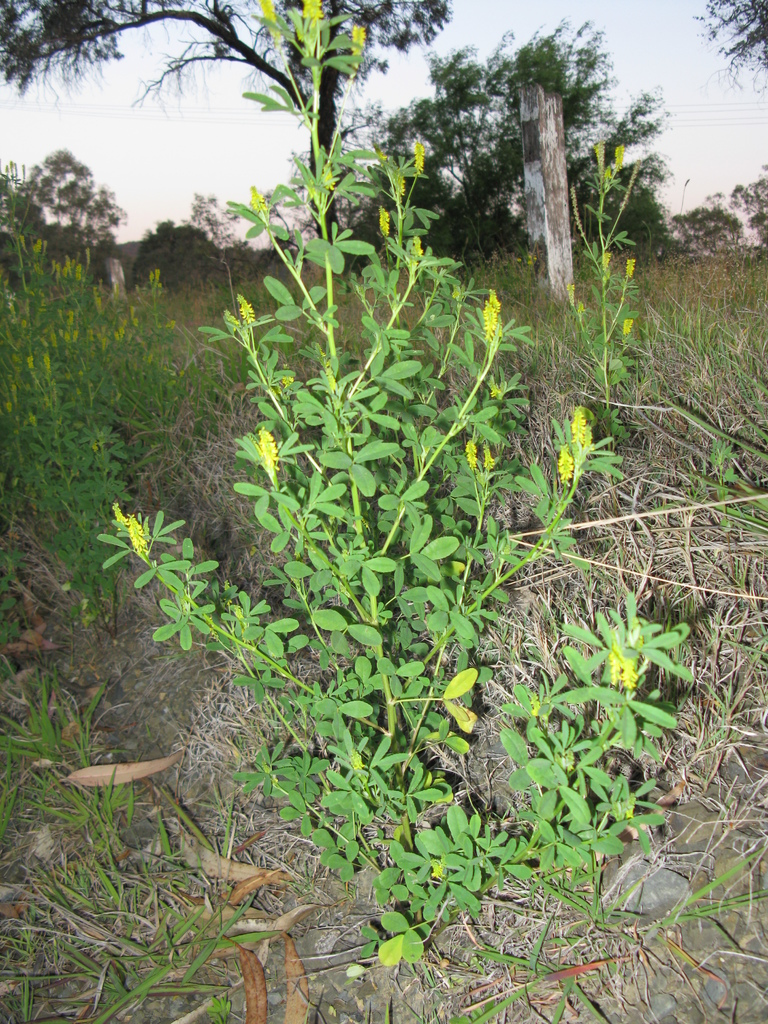Tree: (0, 0, 464, 284), (317, 16, 675, 265), (275, 92, 408, 291), (17, 110, 126, 279), (179, 177, 259, 280), (677, 0, 767, 87), (124, 220, 226, 282), (653, 197, 739, 254), (720, 165, 767, 251)
